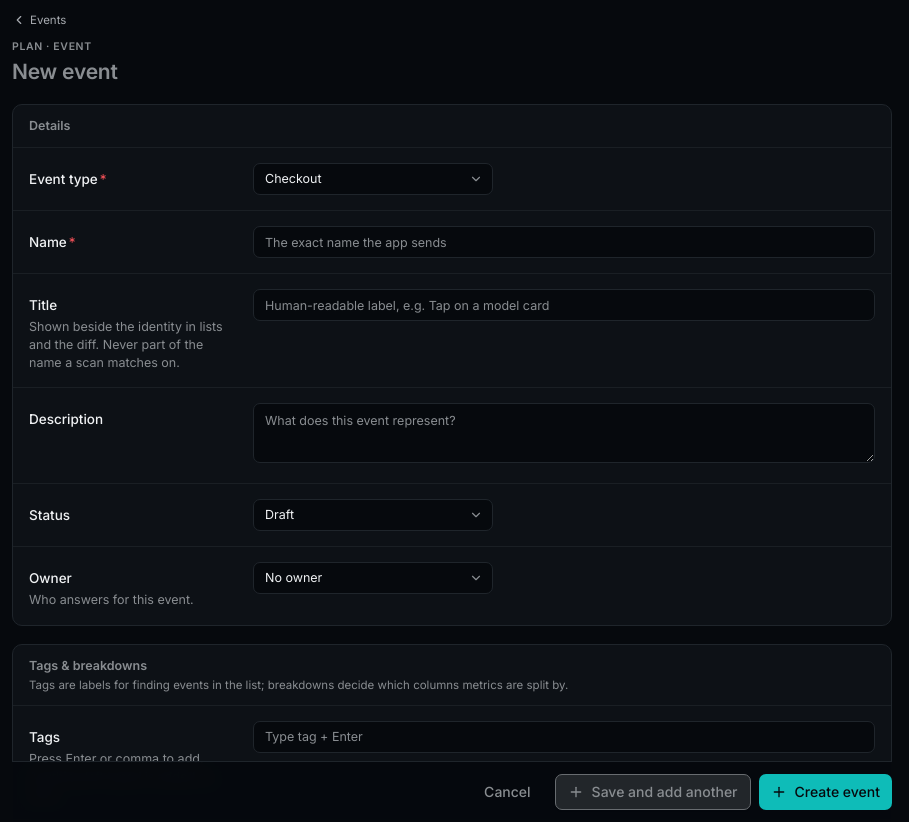
Test: EventForm save and add another › says what it created, and stops saying it once the form describes another event
The width and height of the screenshot is (909, 822).
Type "checkout:started" into the field labelled "Name" at (564, 242), box [253,226,875,258]
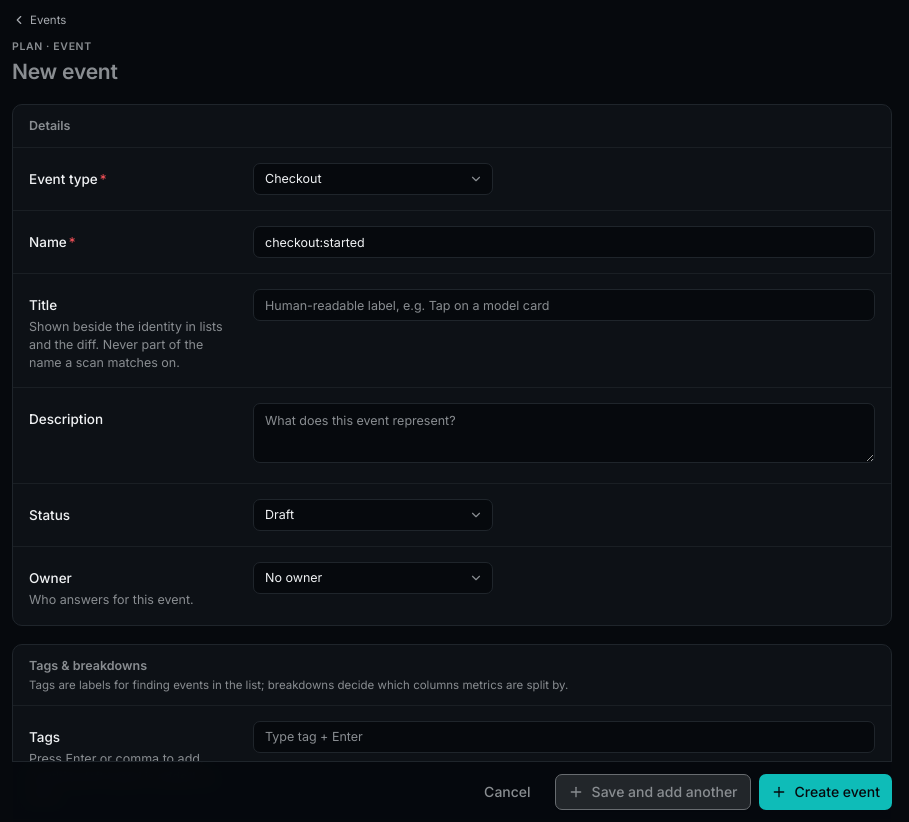
Click the button "Save and add another" at (653, 792), box [555,774,750,810]
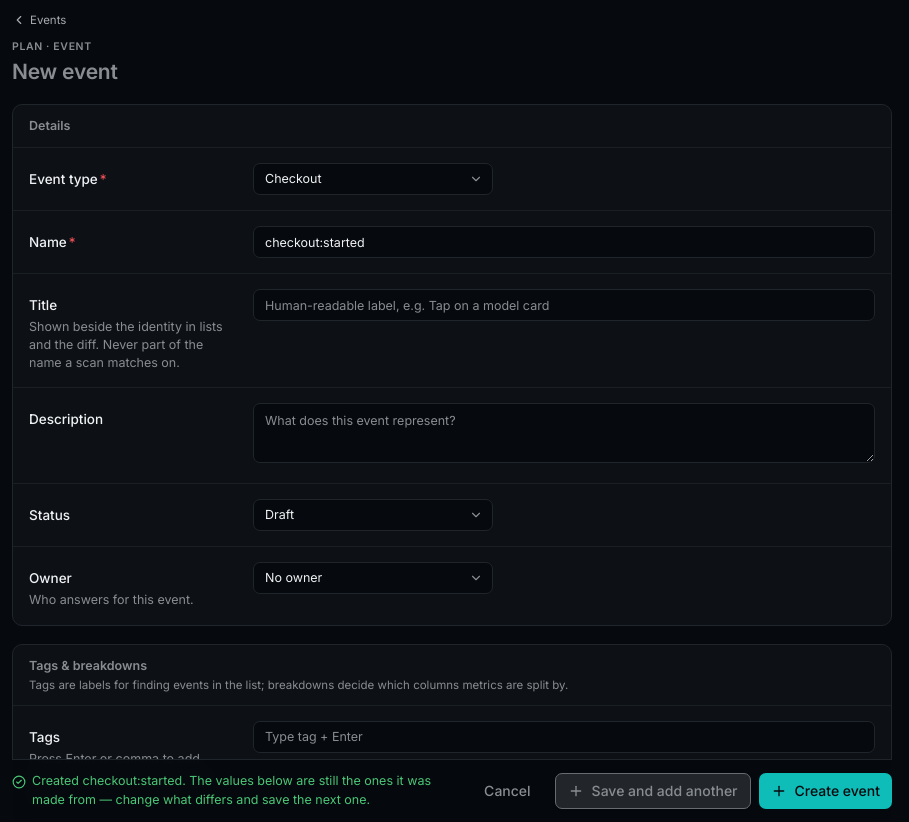
Expected: the message is shown, [12,772,456,810]
Replace the text in the field labelled "Name" with "checkout:completed" at (564, 242), box [253,226,875,258]
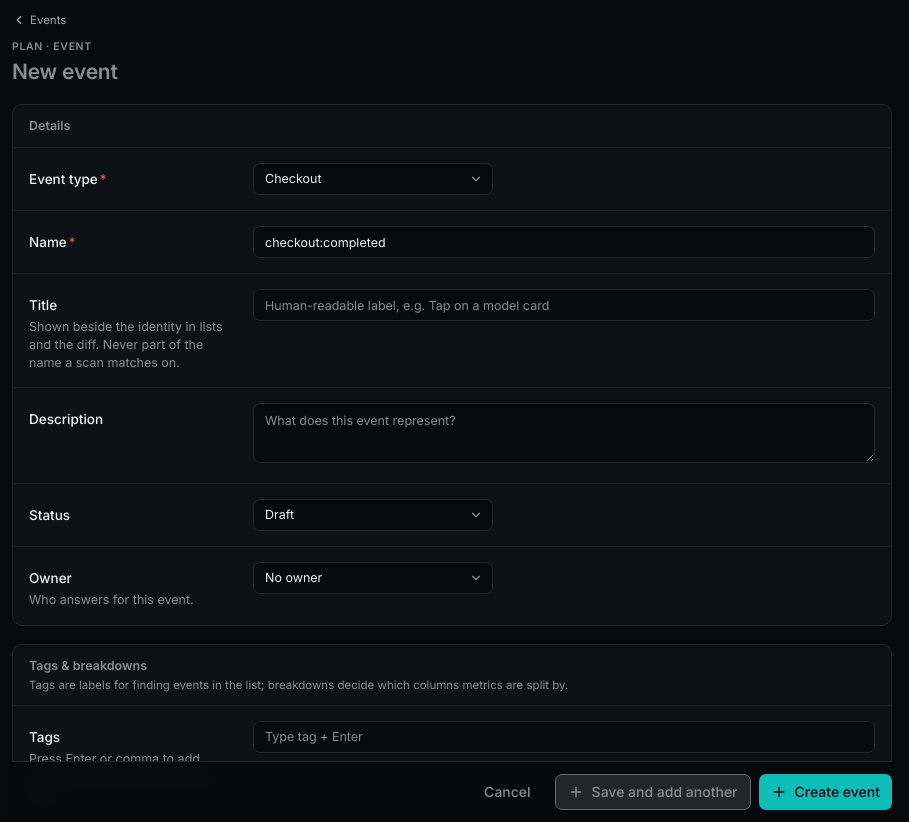
Expected: the text "Created checkout:started" is gone
